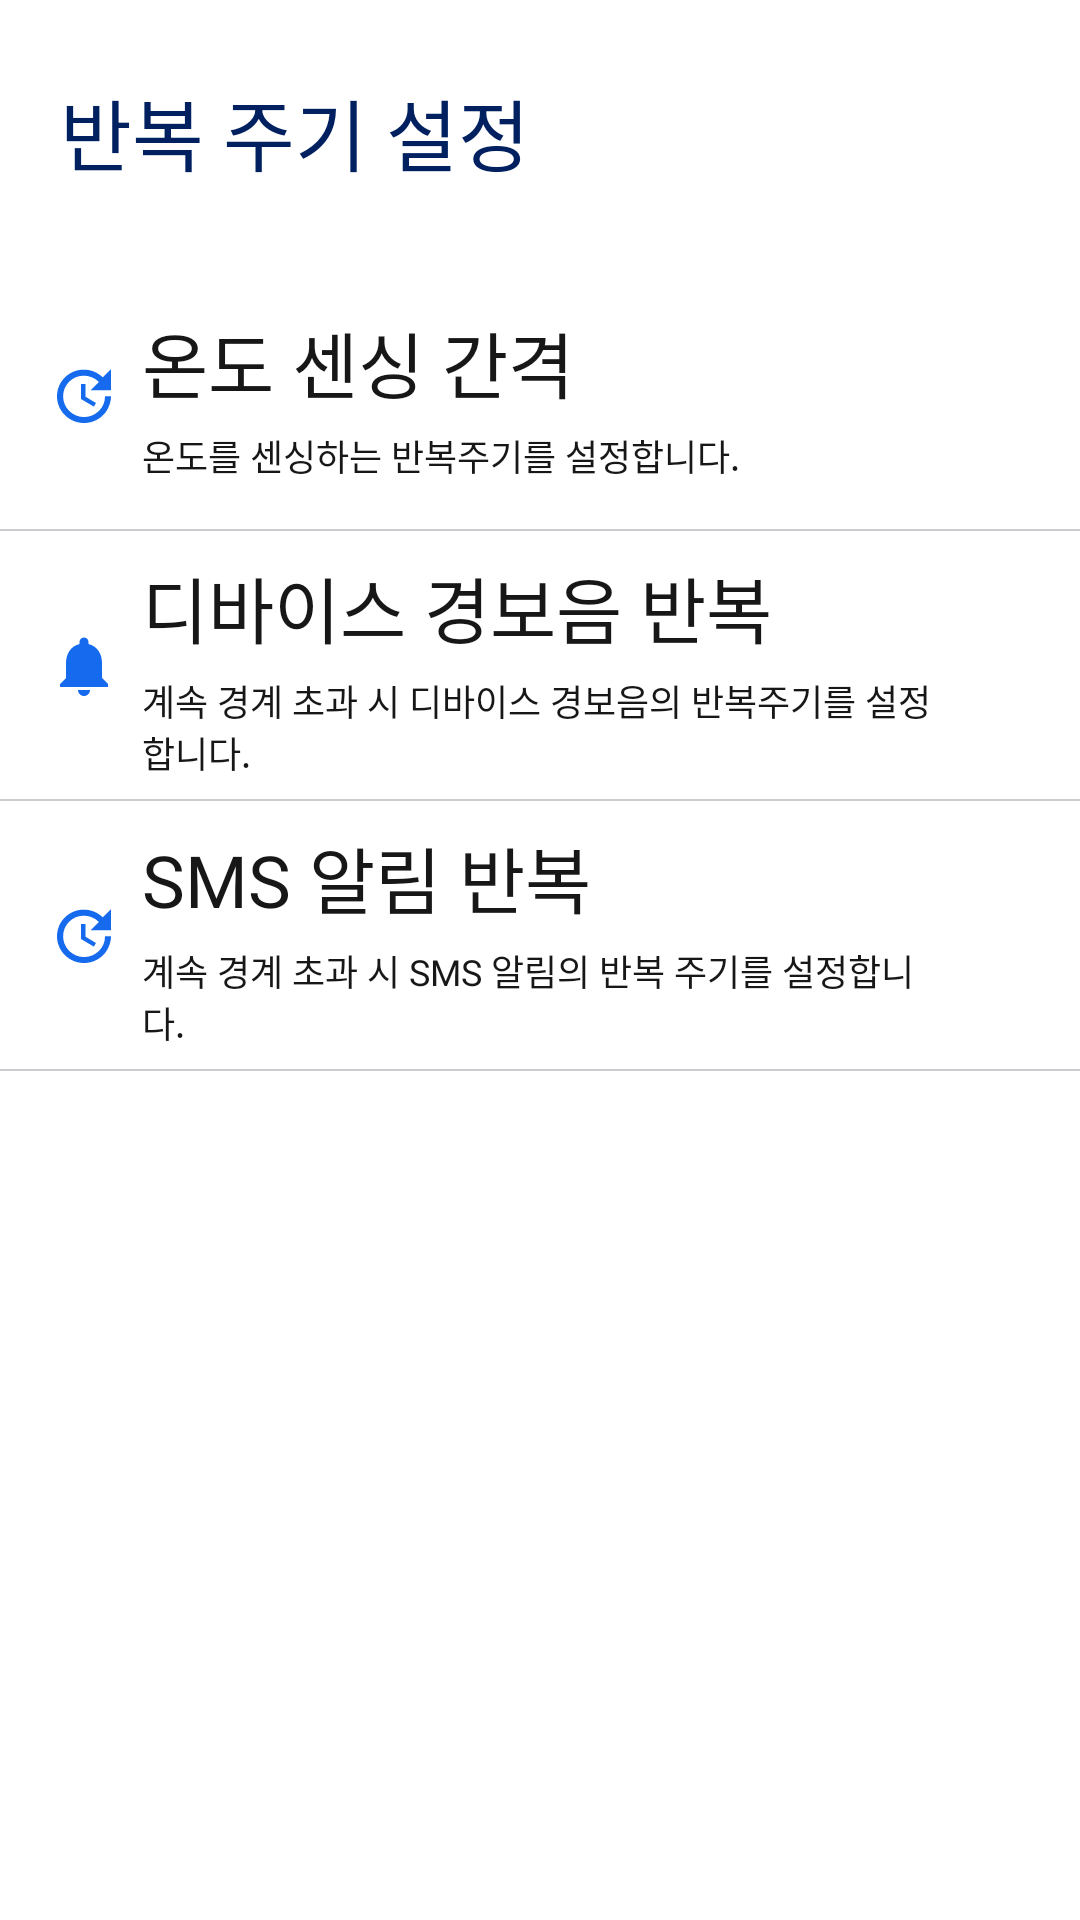

Icon bounding boxes for this 1080px x 1920px phone screenshot, format (x1, y1, x2, y2):
alarm: (60, 637, 108, 696)
measurement frequency: (57, 369, 111, 423), (57, 909, 111, 963)
